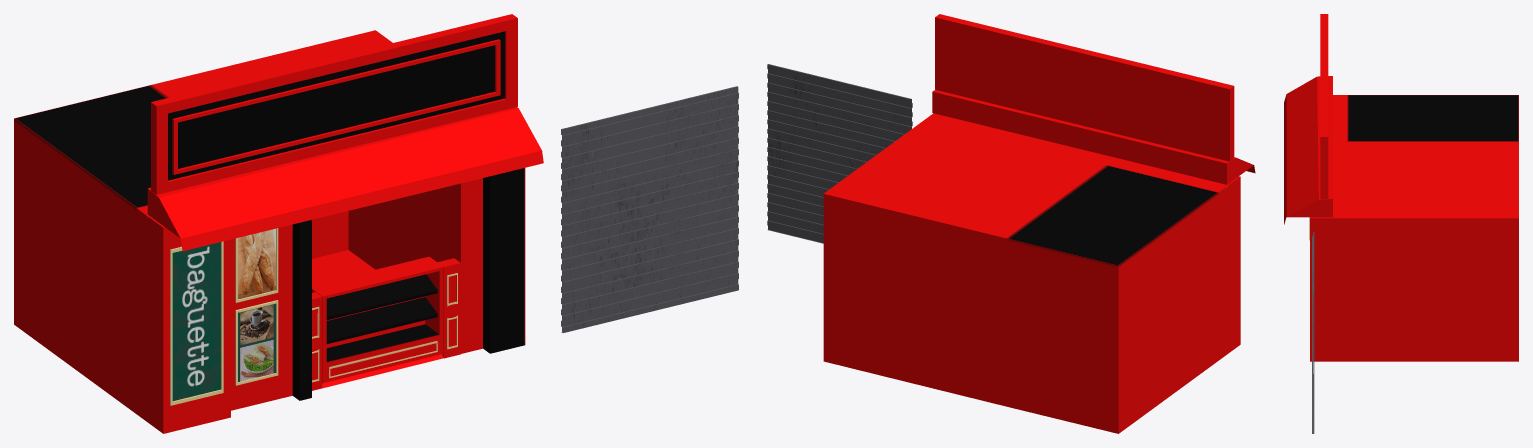
File: mise3.fbx
3 views of the same model, side by side, from view 1: azimuth 30°, elevation 25°; view 2: azimuth 150°, elevation 25°; view 3: azimuth 270°, elevation 25° (orthographic). The views are drawn at different scales.
Visible parts, largest first — view 1: pCube1, pCube10, pCube5, pCube6, pCube4, pCube15, pCube14, pCube7, pCube8, pCube3, pCube2; view 2: pCube1, pCube5, pCube10, pCube6; view 3: pCube1, pCube6, pCube5, pCube10.
Boxes of the visible parts, x1,y1,x2,y2 form: pCube1: (14,30,525,433); pCube10: (561,86,738,332); pCube5: (151,14,517,194); pCube6: (147,107,543,251); pCube4: (312,256,443,383); pCube15: (235,300,278,385); pCube14: (235,228,278,302); pCube7: (326,297,437,343); pCube8: (326,274,437,320); pCube3: (438,258,461,358); pCube2: (312,292,322,390); pCube1: (823,113,1240,433); pCube5: (935,14,1234,161); pCube10: (767,64,912,243); pCube6: (932,90,1255,184); pCube1: (1309,95,1518,361); pCube6: (1284,76,1332,224); pCube5: (1320,14,1328,198); pCube10: (1312,232,1314,433).
Size of the model in its own units: 23.14 by 12.36 by 11.68.
